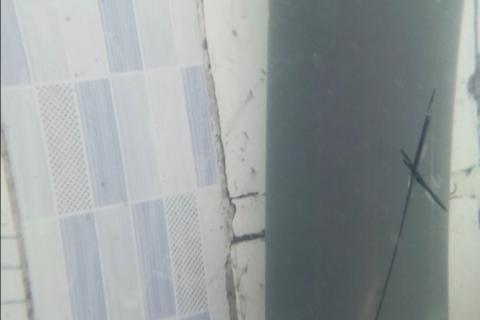keretakan: (373, 90, 449, 320)
